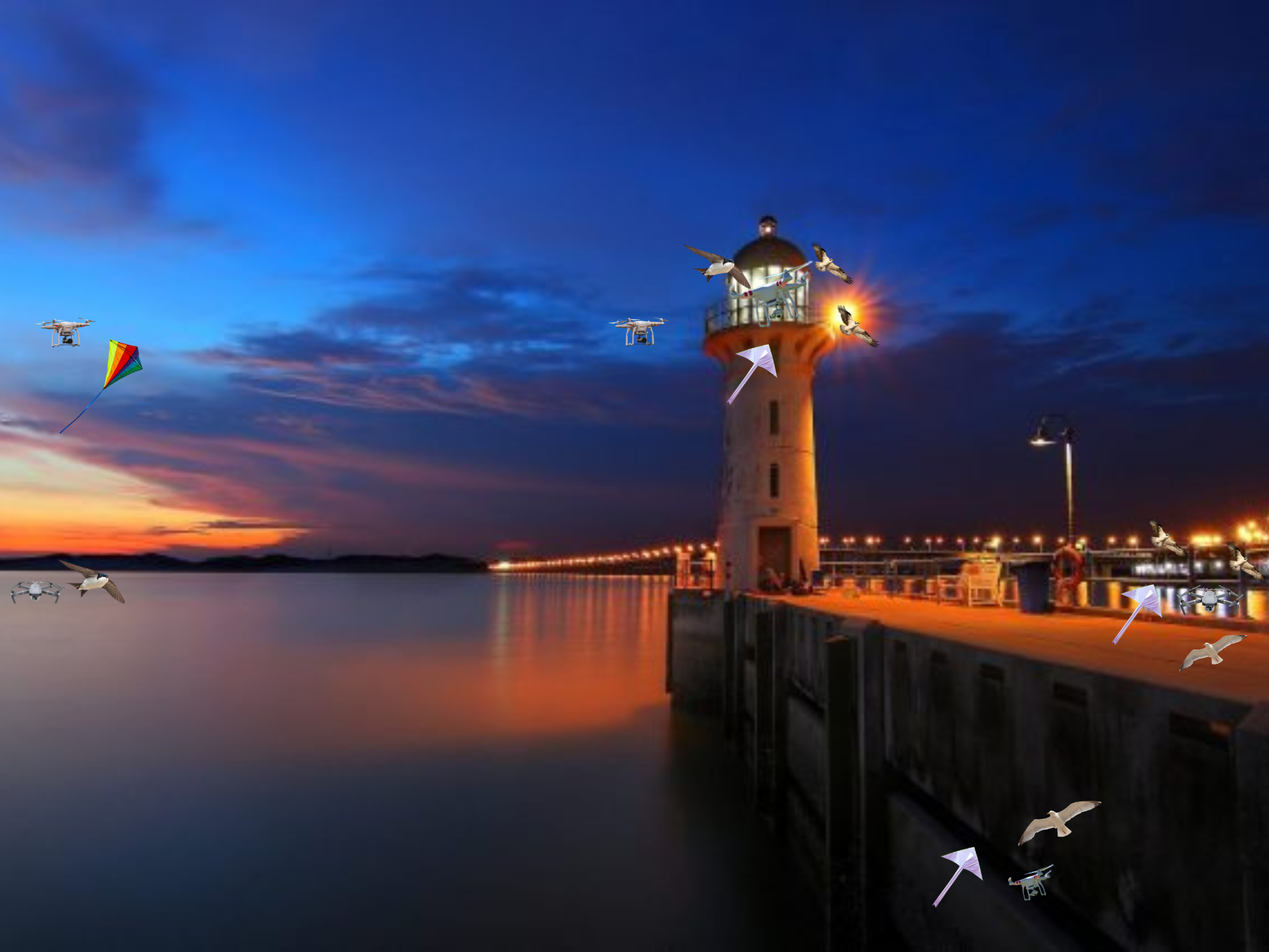drone_other: (726, 258, 816, 331), (1175, 582, 1245, 617), (36, 315, 97, 350), (608, 314, 669, 349), (1007, 863, 1055, 903), (10, 580, 63, 606)
